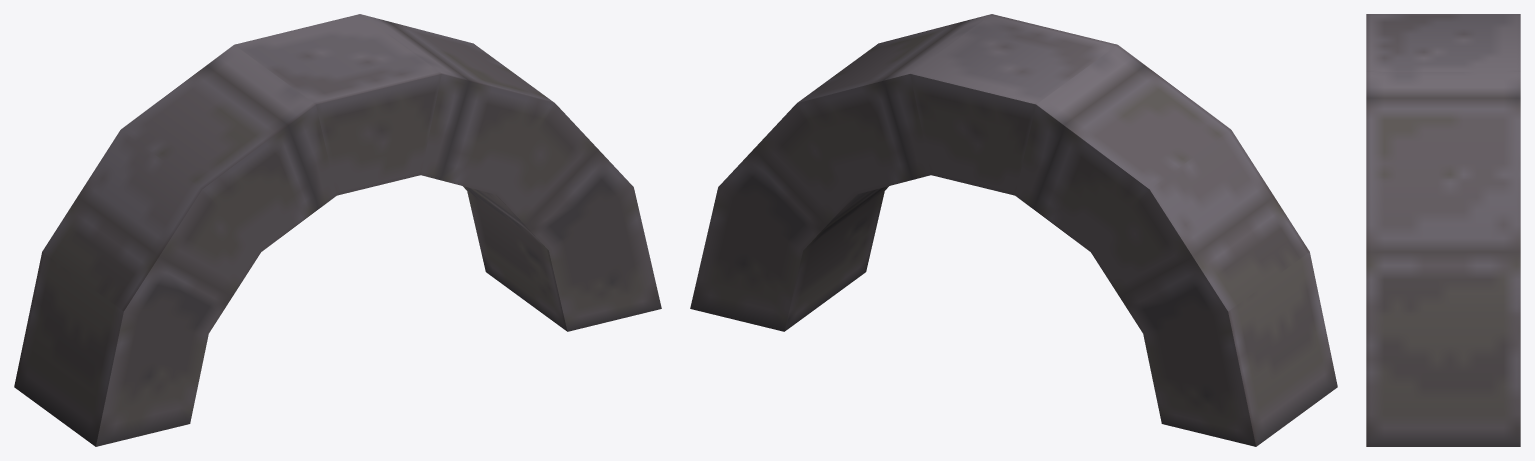
Rendered from arch_01_purple.fbx.
3 views of the same model, side by side, from view 1: azimuth 30°, elevation 25°; view 2: azimuth 150°, elevation 25°; view 3: azimuth 270°, elevation 25° (orthographic). The views are drawn at different scales.
Visible parts, largest first — view 1: arch_01_purple; view 2: arch_01_purple; view 3: arch_01_purple.
Boxes of the visible parts, left/top/right/bottom form: arch_01_purple: left=14, top=14, right=661, bottom=446; arch_01_purple: left=690, top=14, right=1337, bottom=446; arch_01_purple: left=1366, top=14, right=1520, bottom=446.
Bounding box in the file's own units: 48 × 23.4 × 12.
